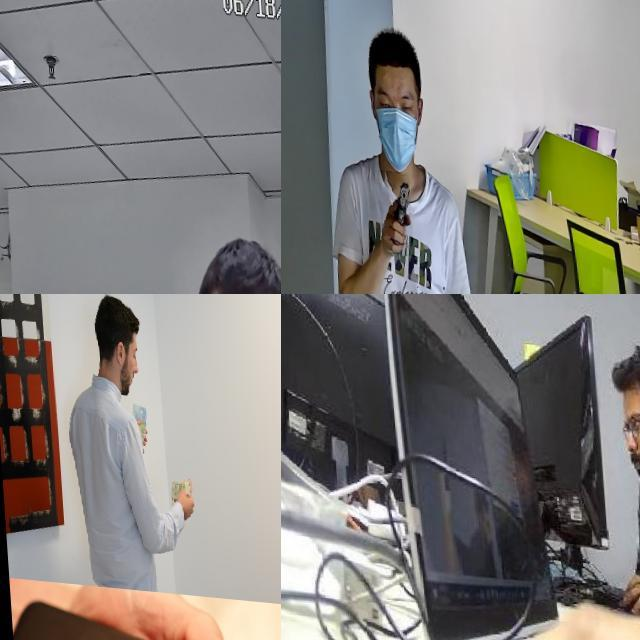gun-knife-thesis - v11 Yolov5 augmented: (373, 164, 408, 250)
